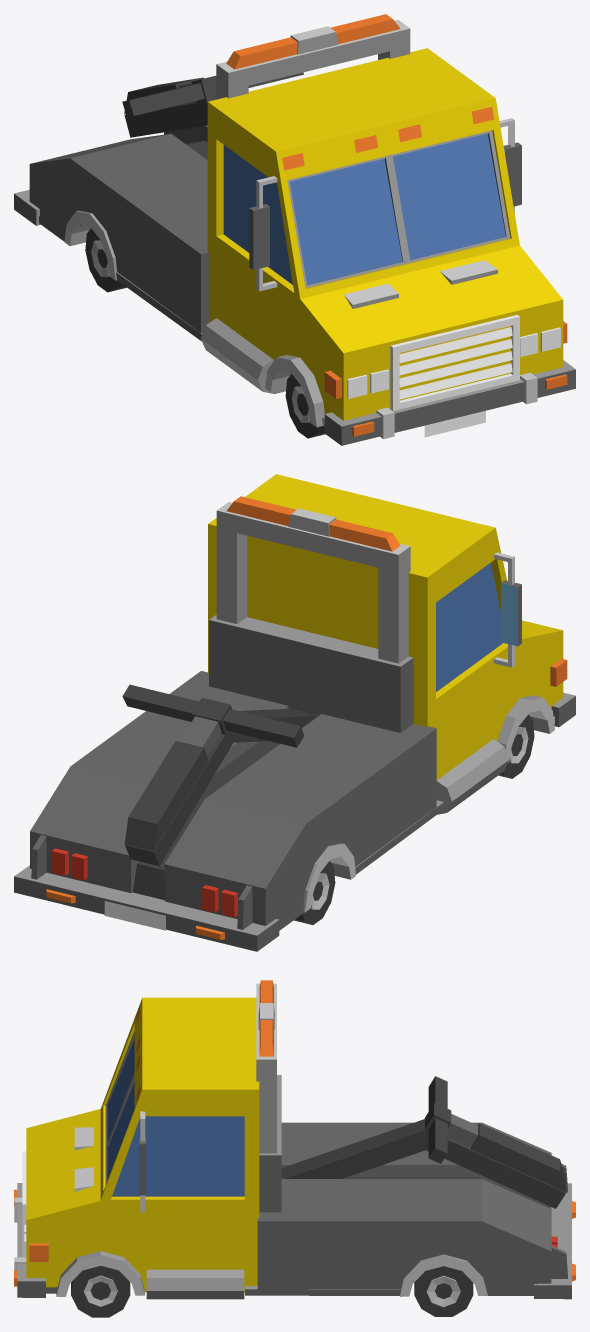
Rendered from Truck_Tractor.fbx.
The picture shows the model from 3 angles, top to bottom: view 1: azimuth 30°, elevation 25°; view 2: azimuth 150°, elevation 25°; view 3: azimuth 270°, elevation 25°; orthographic projection. The views are drawn at different scales.
Parts seen in each view (by area): view 1: Truck_Tractor; view 2: Truck_Tractor; view 3: Truck_Tractor.
Part boxes in pixels (x1,y1,x2,y2): Truck_Tractor: [14, 14, 575, 445]; Truck_Tractor: [14, 474, 575, 951]; Truck_Tractor: [14, 980, 575, 1317].
Bounding box in the file's own units: 1.01 × 1.1 × 2.13.
